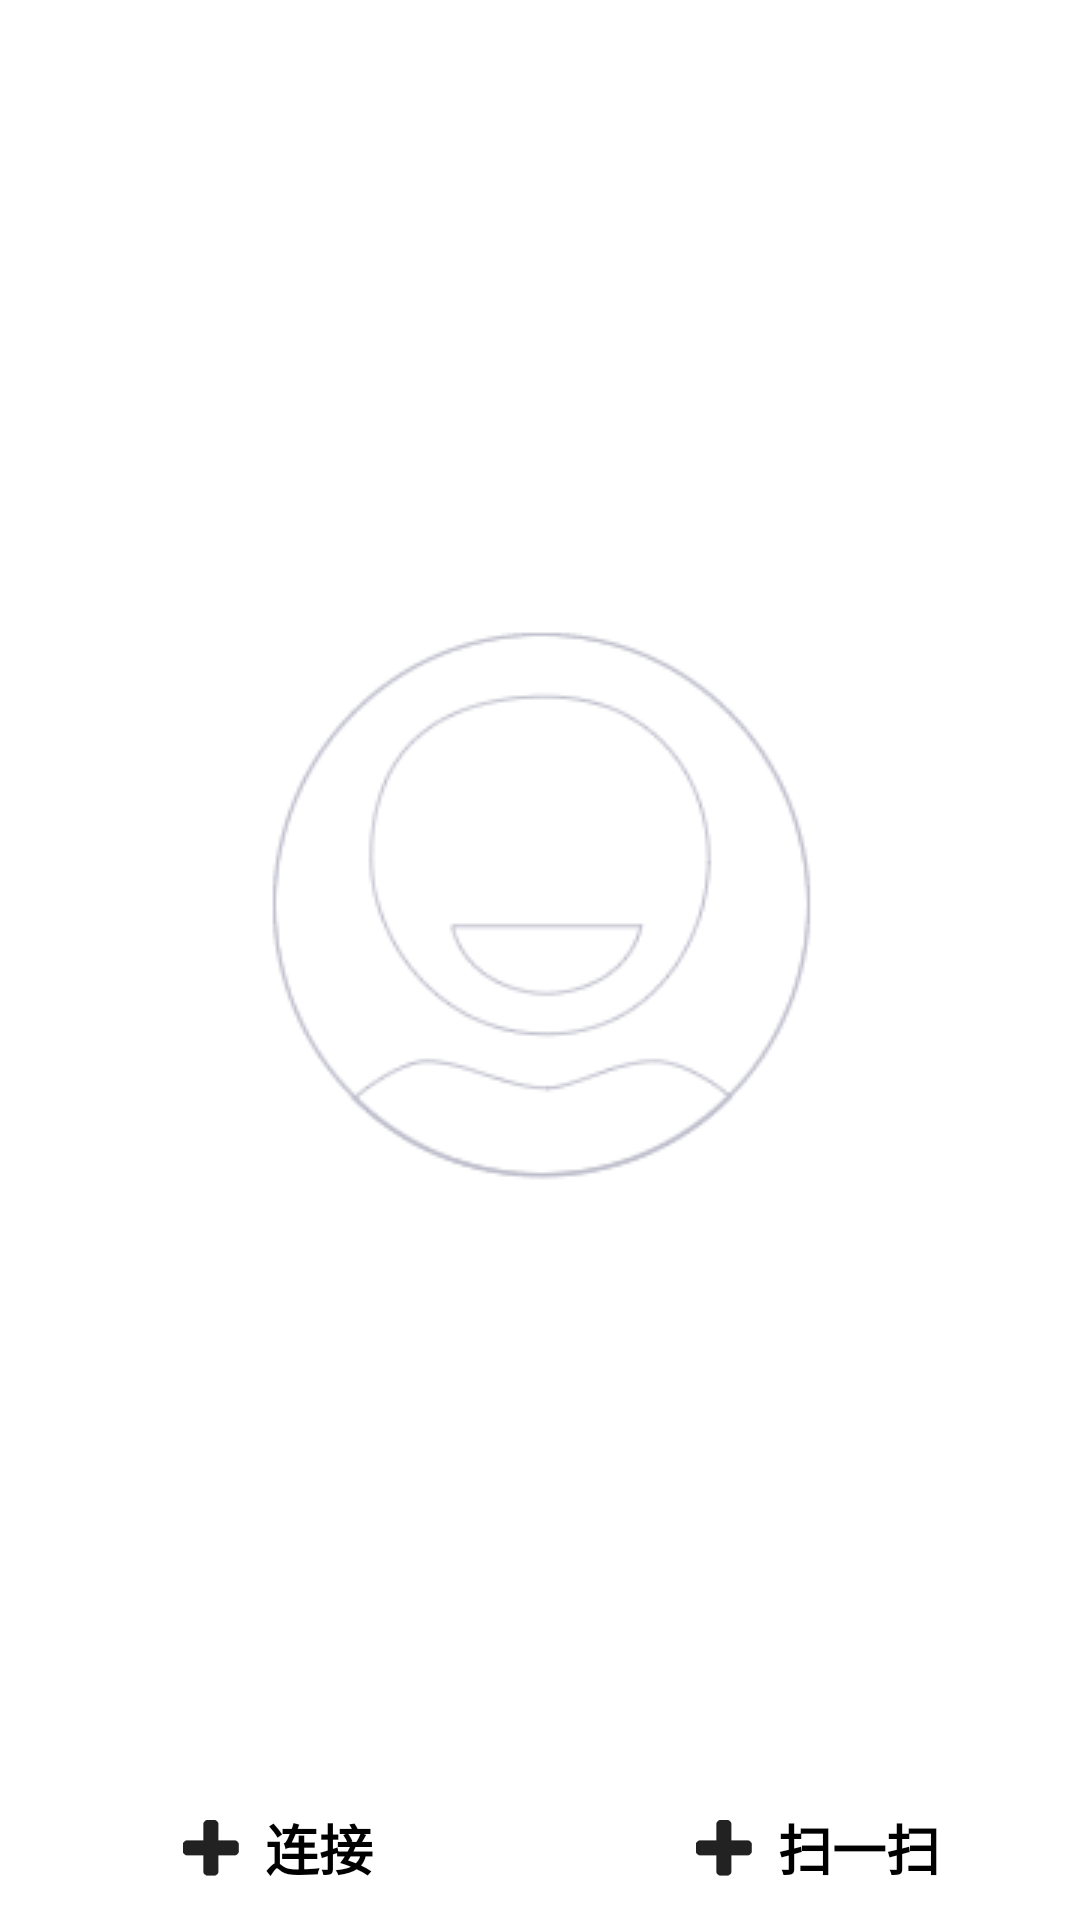

Icons on this 1080×1920 Android screen, each with the point to tap as (x=x, y=y):
plus: (x=211, y=1848), (x=724, y=1848)
